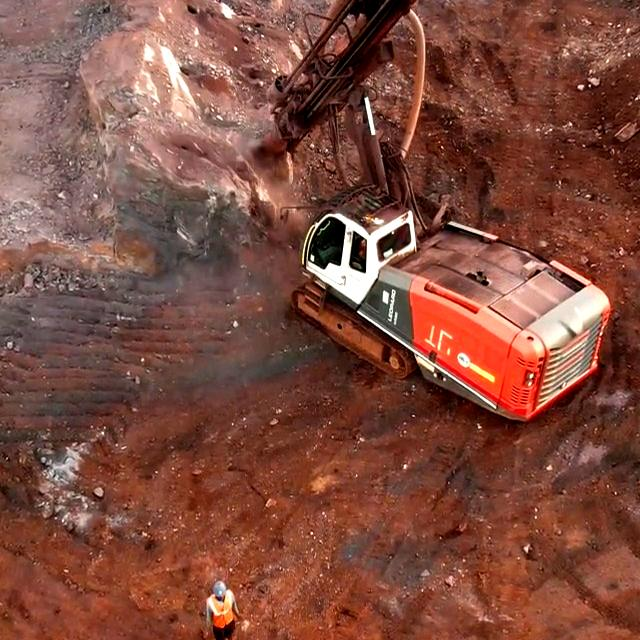Blast rig: (277, 0, 617, 432)
person: (204, 579, 238, 640)
